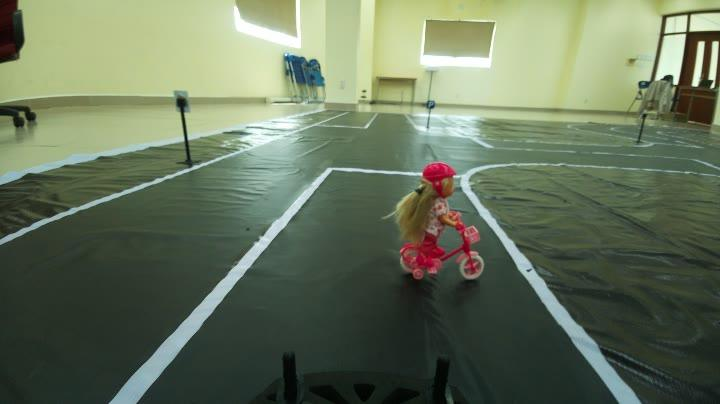pedestrian: (393, 155, 480, 283)
